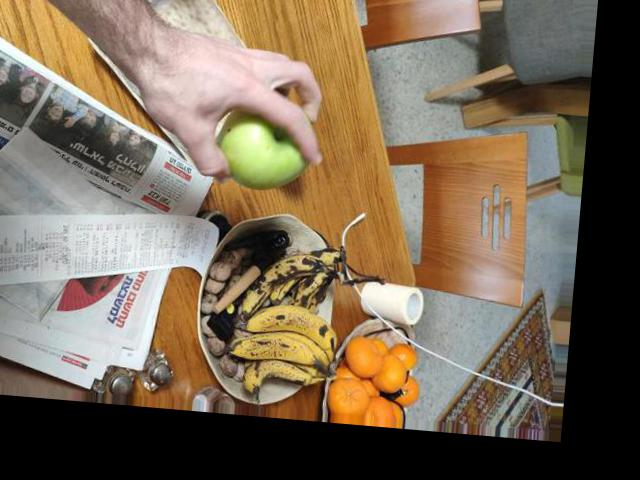apple: (196, 88, 328, 190)
